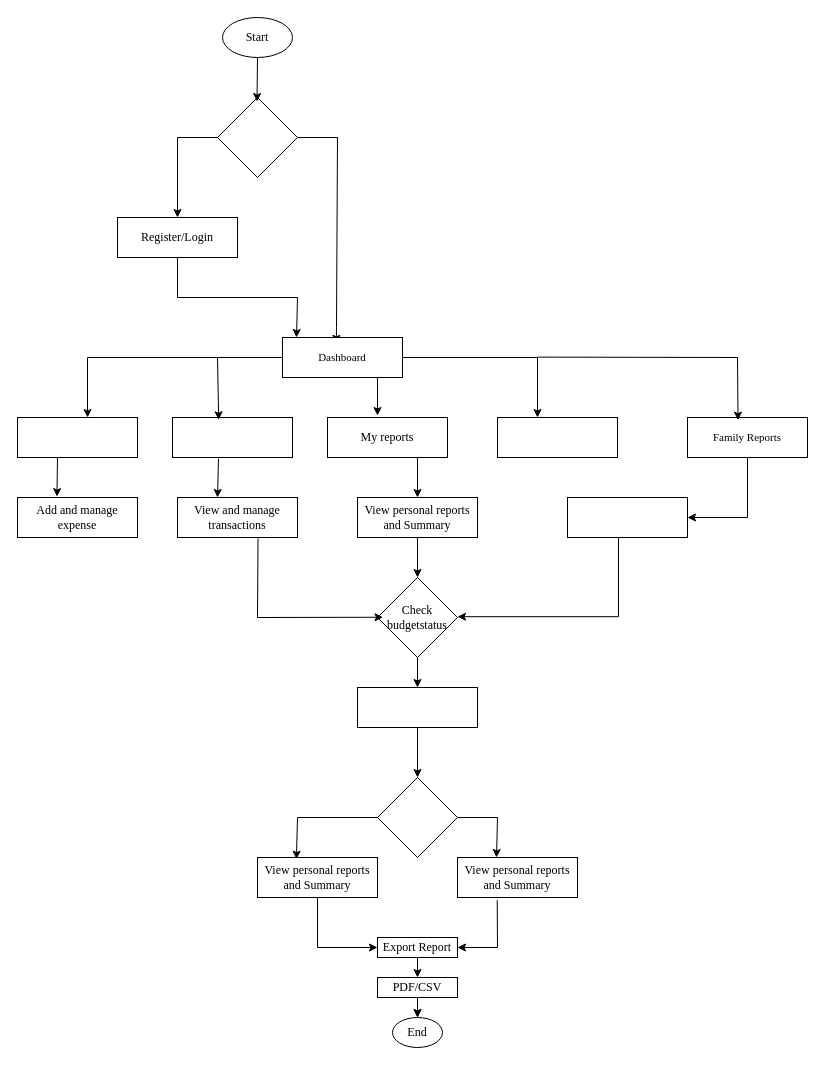
The diagram is 825 pixels wide and 1073 high, and some of its shapes have lost their labels. Here are the shapes that lost their labels. From the top down, the box of each, then its label:
(216, 96, 298, 178): Authenticated?
(16, 416, 138, 458): Add expense
(172, 416, 292, 458): Transactions
(496, 416, 618, 458): Budget Setup
(566, 496, 688, 538): View Family budget and reports
(356, 686, 478, 728): Calculate spent VS budget percentage
(376, 776, 458, 858): spent>=75% of budget ?
